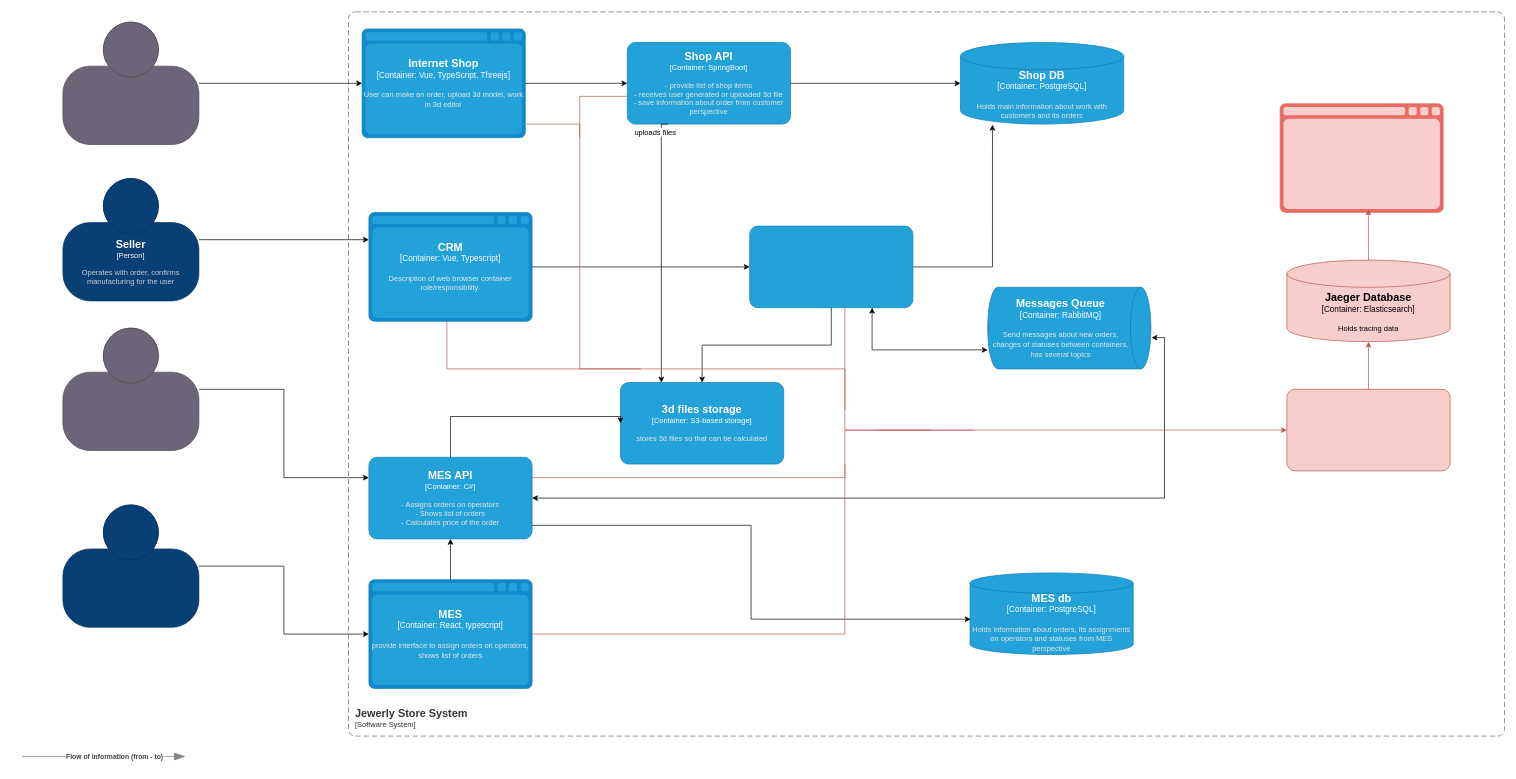
Some shapes in this 1516 by 779 pixel diagram are drawn without their labels. Here are the shapes that lost their labels. From the top down, the box of each, then its label:
(62, 21, 199, 144): Customer [Person] Description of external person.
(1279, 103, 1443, 213): Jaeger UI + Query [Container: Golang] Allows to find and view collected traces.
(749, 225, 913, 308): CRM API [Container: SpringBoot] Description of container role/responsibility.
(62, 327, 199, 451): API user [Person] Description of external person.
(1286, 389, 1450, 471): Jaeger Collector [Container: Golang] Traces collecting engine.
(62, 504, 199, 627): Operator [Person] Takes order in work, manufactures jewerly
